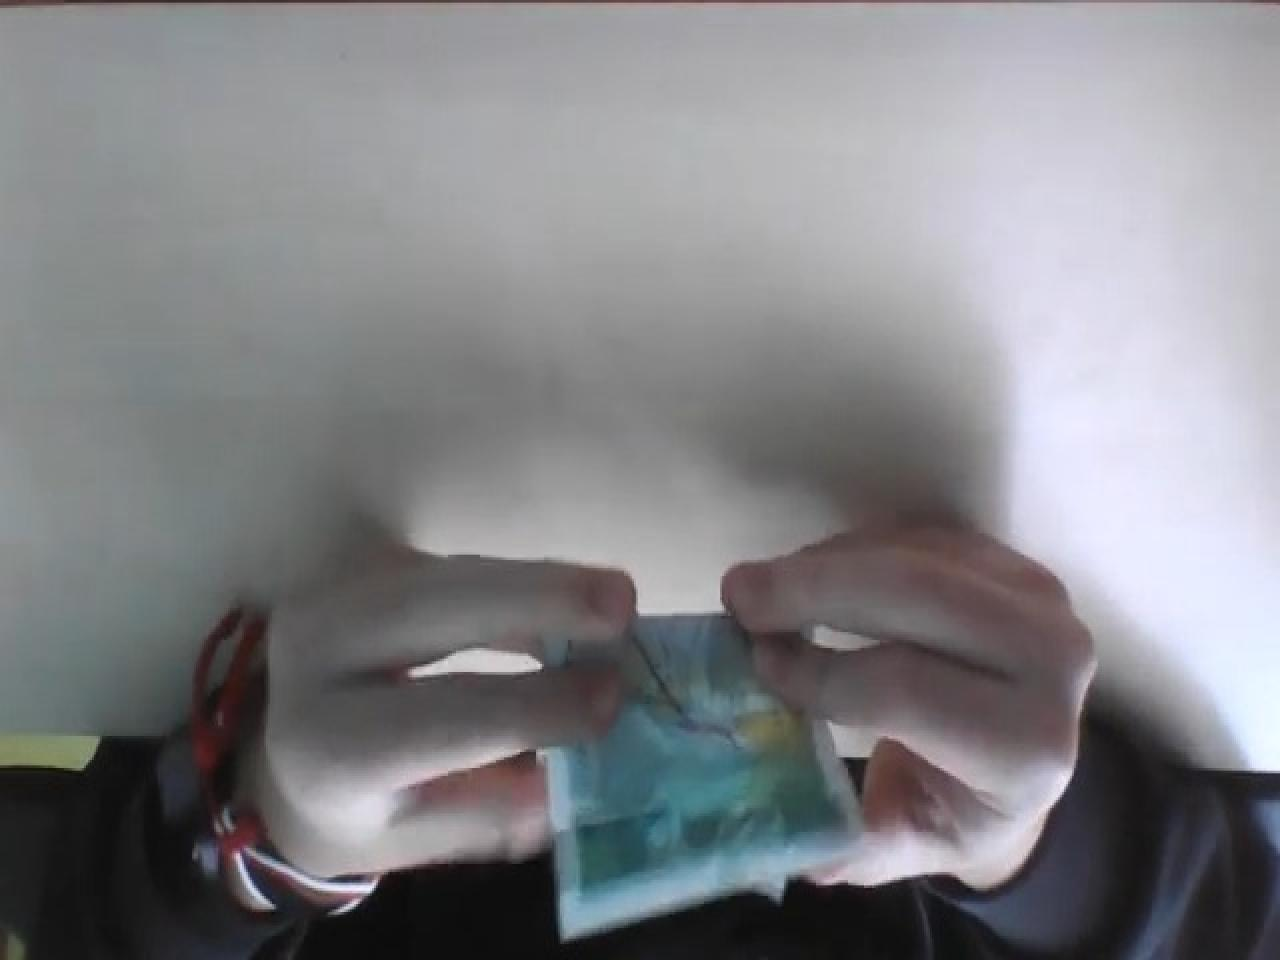100leva: (538, 611, 868, 944)
